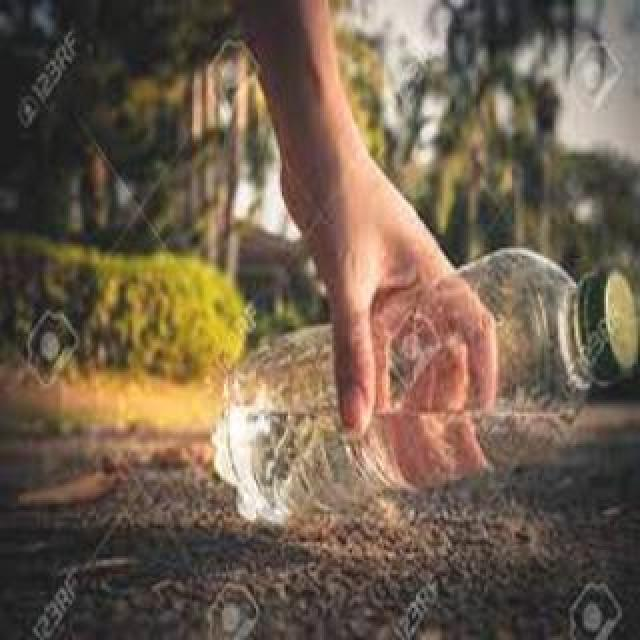Pet_Bottle: (210, 246, 640, 526)
